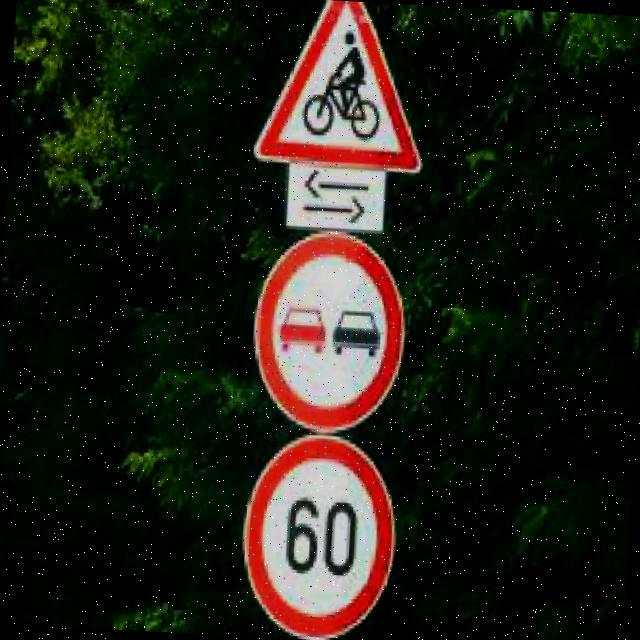Ograniczenie predkosci do 60: (231, 428, 407, 640)
